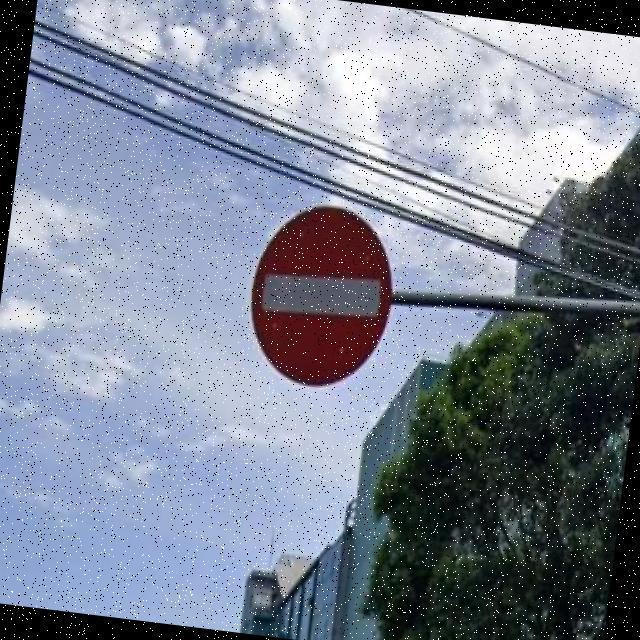Zakaz wjazdu: (243, 202, 400, 394)
